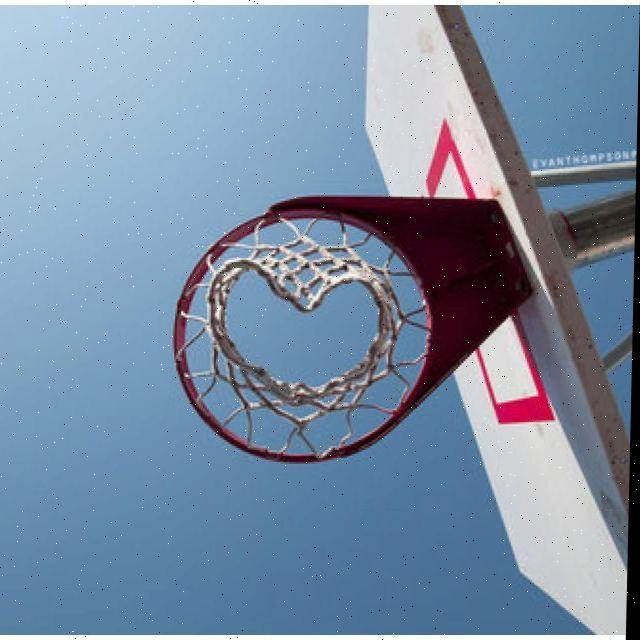hoop: (132, 214, 446, 460)
